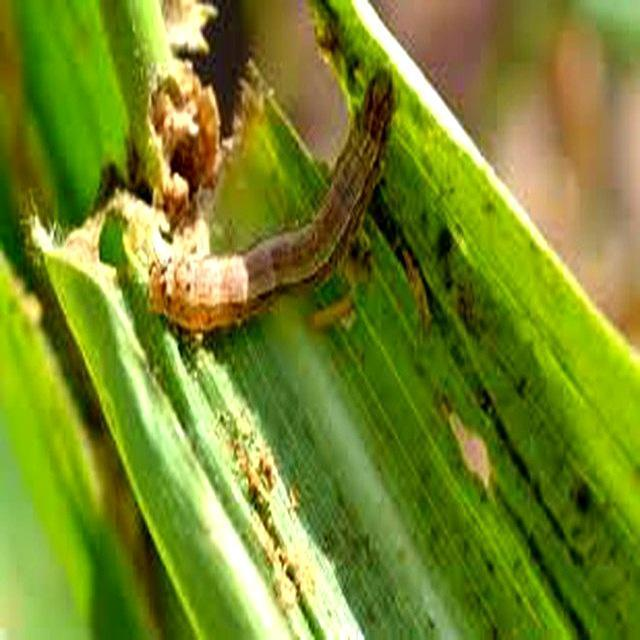gusano_cogollero: (142, 65, 400, 345)
